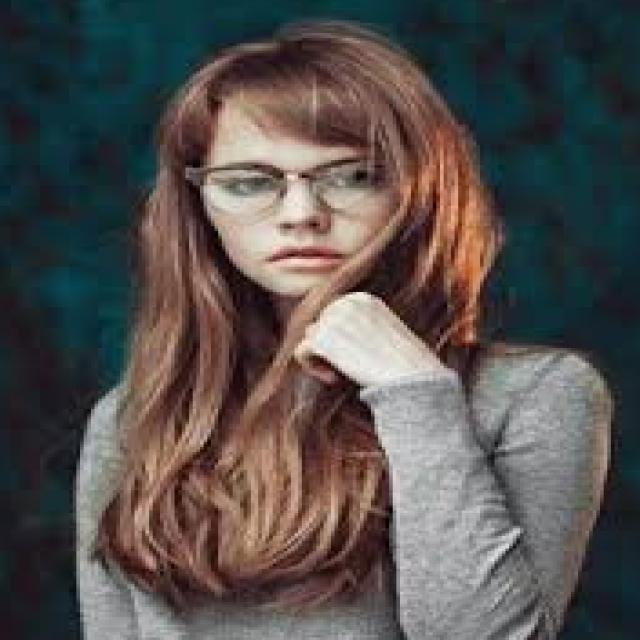Glasses: (174, 141, 436, 229)
